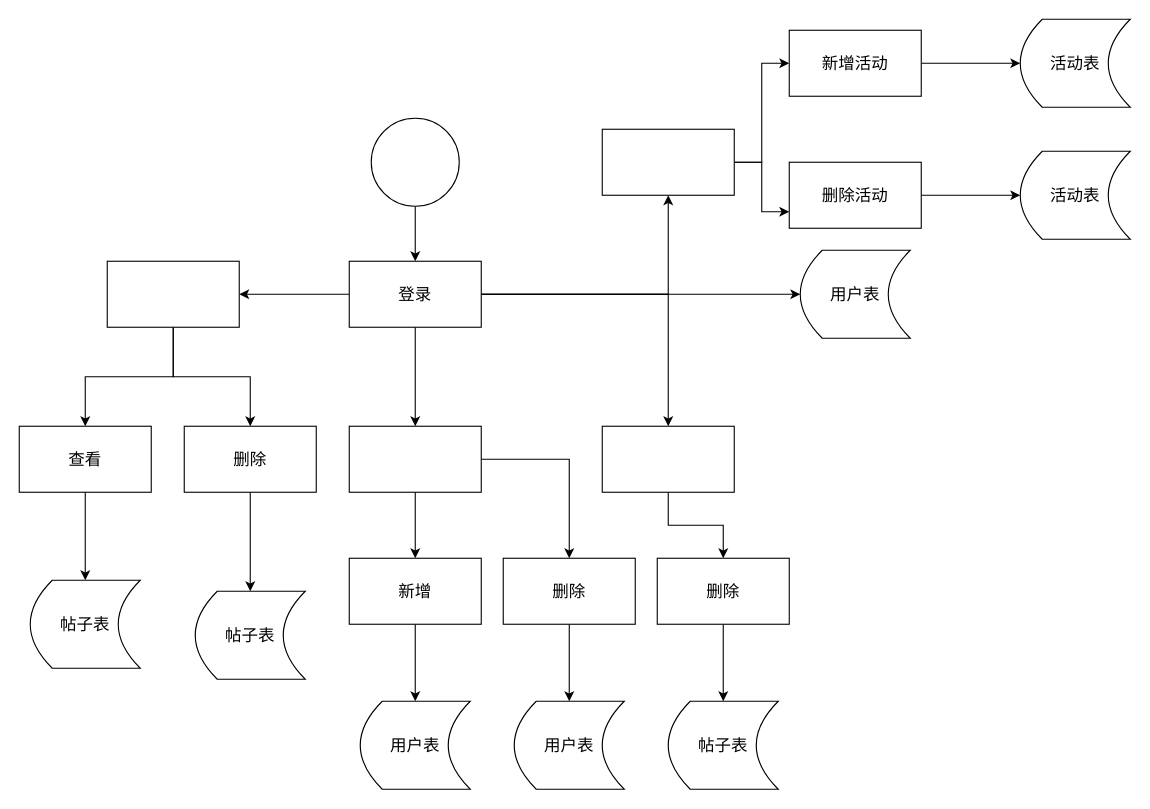
This 1150x809 diagram has some shape labels left out. The shapes that lost their labels are listed below. From the top down, each one's centre as x and y in pixels, then its label:
At point (414, 161): "管理员".
At point (667, 161): "活动管理".
At point (172, 293): "帖子管理".
At point (414, 458): "用户管理".
At point (667, 458): "评论管理".
